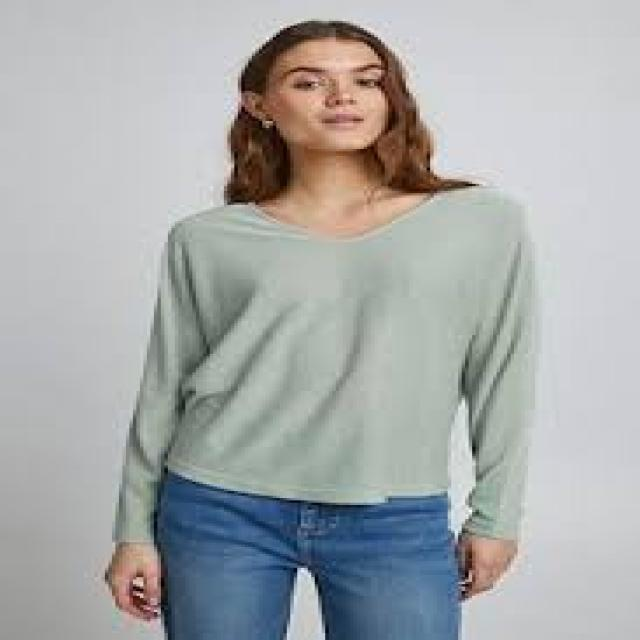plain: (130, 184, 556, 492)
